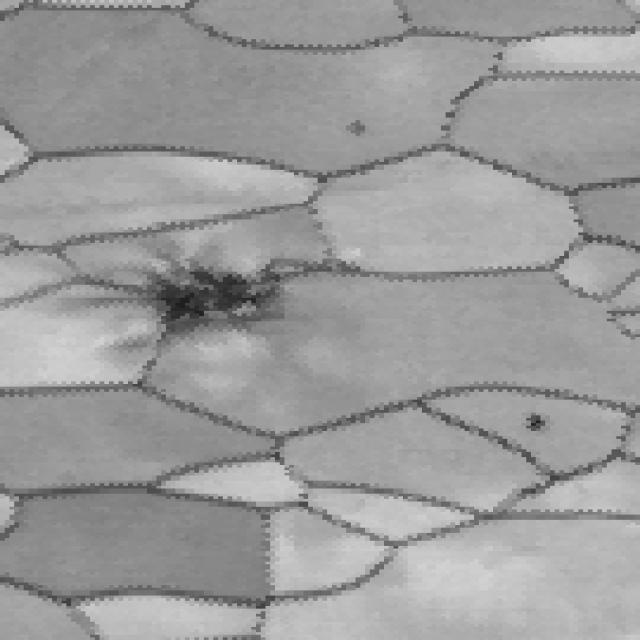good_void: (90, 256, 297, 340), (493, 406, 556, 434), (345, 113, 367, 139)
